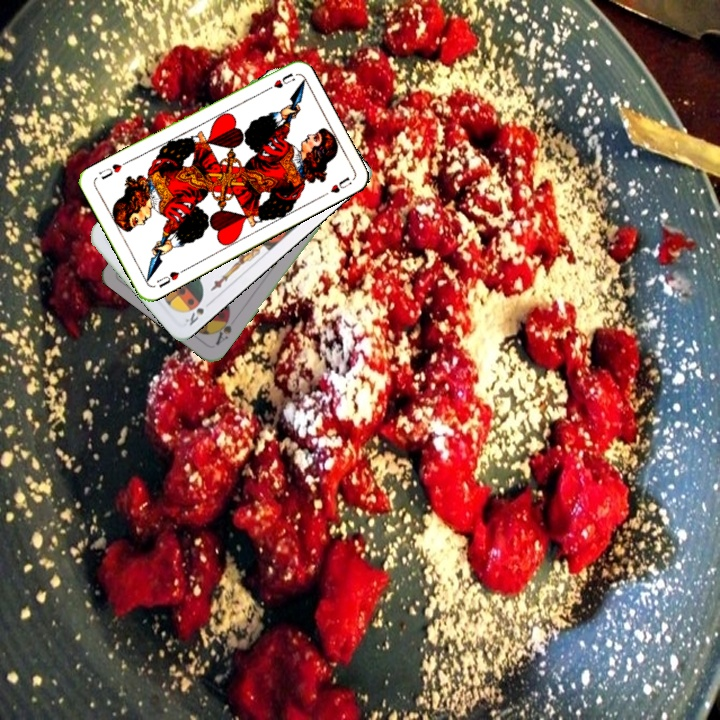HU: (260, 69, 298, 95), (152, 265, 188, 290)
SA: (211, 310, 234, 348)
SK: (181, 304, 207, 328)
